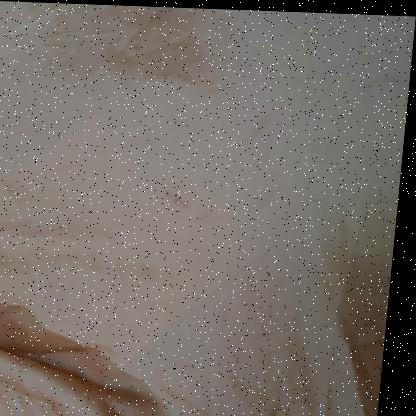spot: (165, 187, 197, 208), (201, 210, 214, 220)
